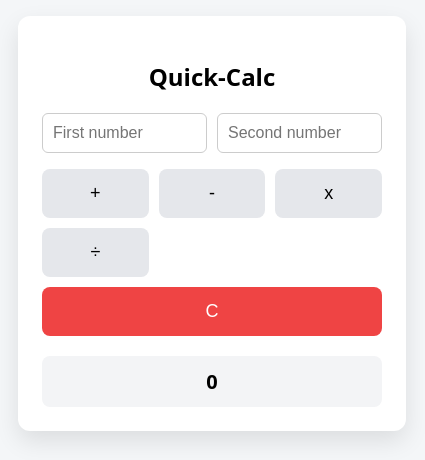
Test: Quick-Calc integration tests › clear button resets inputs and result to 0
Simulate user typing and clicking
In the number field with placeholder "First number": [124, 133] box [42,113,207,153], type "4"
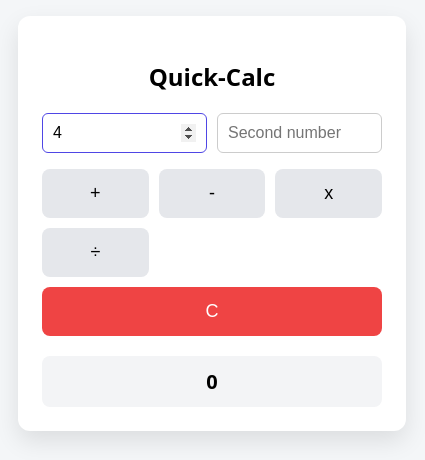
In the number field with placeholder "Second number": [300, 133] box [217,113,382,153], type "5"
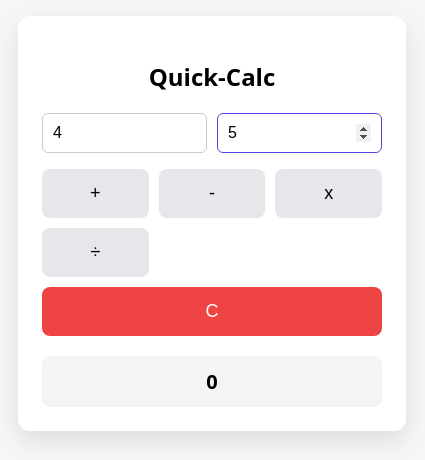
Click the button "x": [329, 193] box [275,169,382,218]
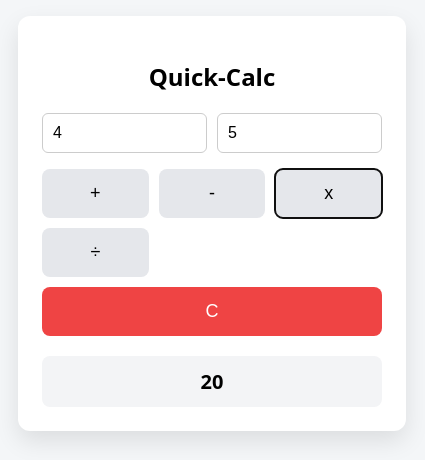
Now the text with test id "result" reads "20", box [200,368,223,395]
Click the clear button
Click the button "C": [212, 311] box [42,287,382,336]
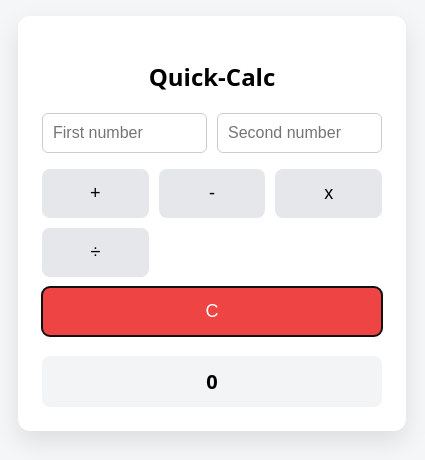
Now the number field with placeholder "First number" is not empty, box [42,113,207,153]
Now the number field with placeholder "Second number" is not empty, box [217,113,382,153]
Now the text with test id "result" reads "0", box [206,368,218,395]
